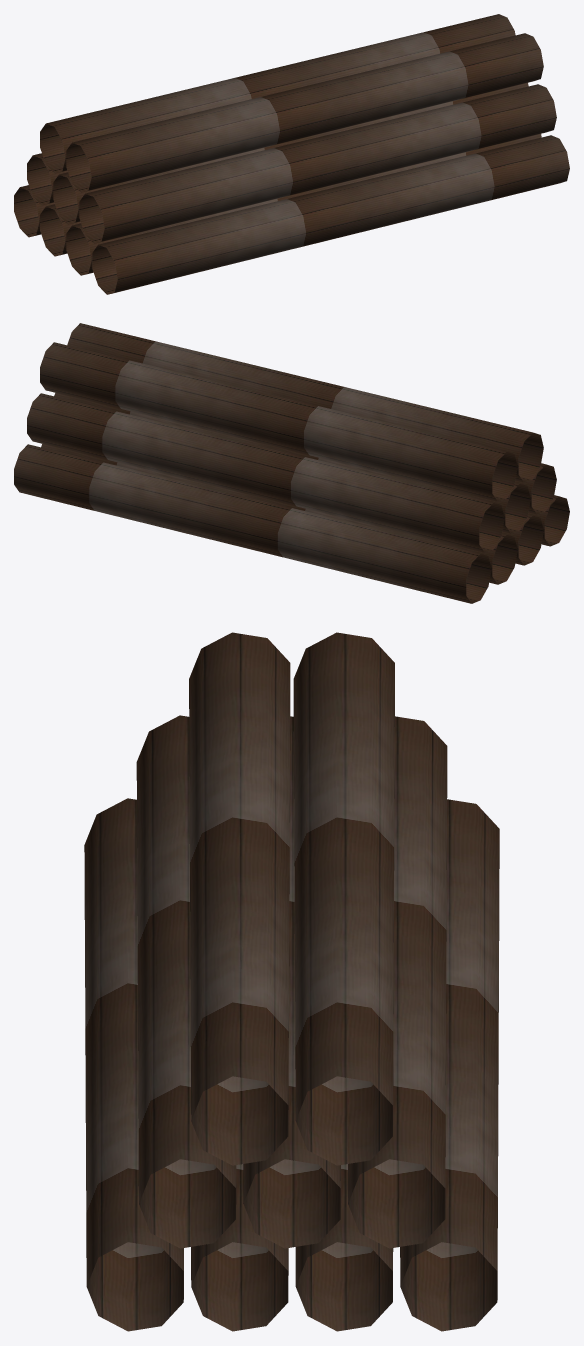
Rendered from logpile0.fbx.
The picture shows the model from 3 angles, top to bottom: view 1: azimuth 30°, elevation 25°; view 2: azimuth 150°, elevation 25°; view 3: azimuth 270°, elevation 25°; orthographic projection. The views are drawn at different scales.
Parts seen in each view (by area): view 1: logpile0; view 2: logpile0; view 3: logpile0.
Part boxes in pixels (bbox=[...]): logpile0: bbox=[14, 14, 569, 294]; logpile0: bbox=[14, 323, 569, 603]; logpile0: bbox=[84, 632, 499, 1331].
Bounding box in the file's own units: 4.8 × 1.31 × 1.91.
Materials: 1 (1 with a texture image).
